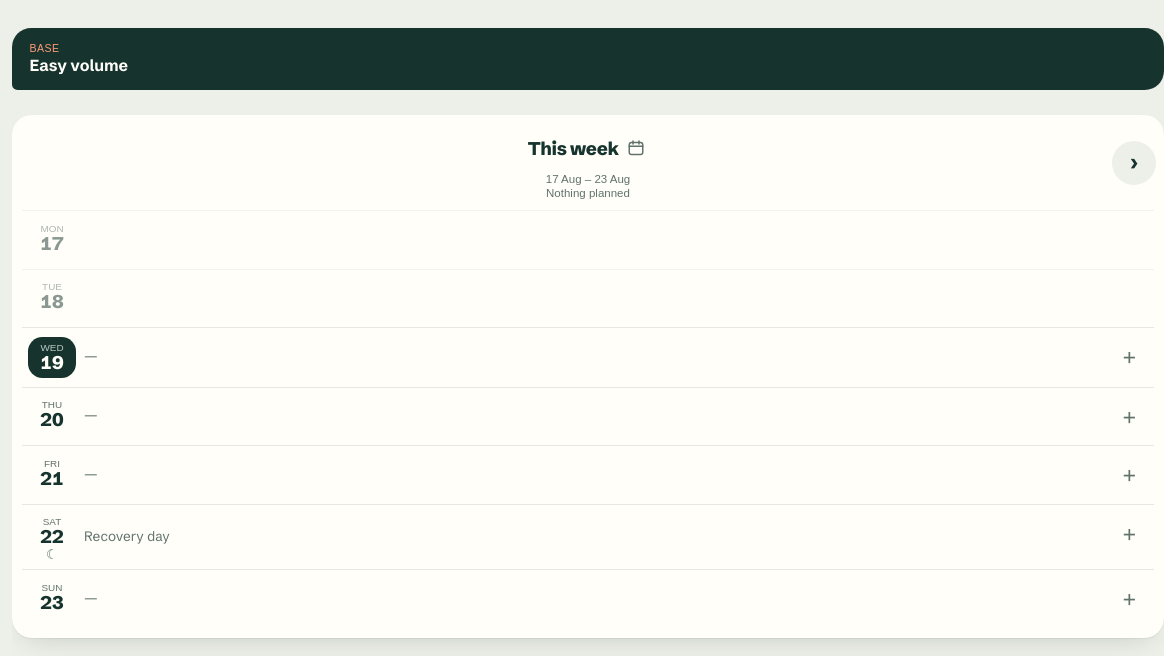
Test: PlanManager › shows the roadmap phase the week sits in
Expected: the text "Base" is shown, [30,42,59,54]
Click the button named "Next week" at x=1134, y=163, box [1112,141,1156,185]
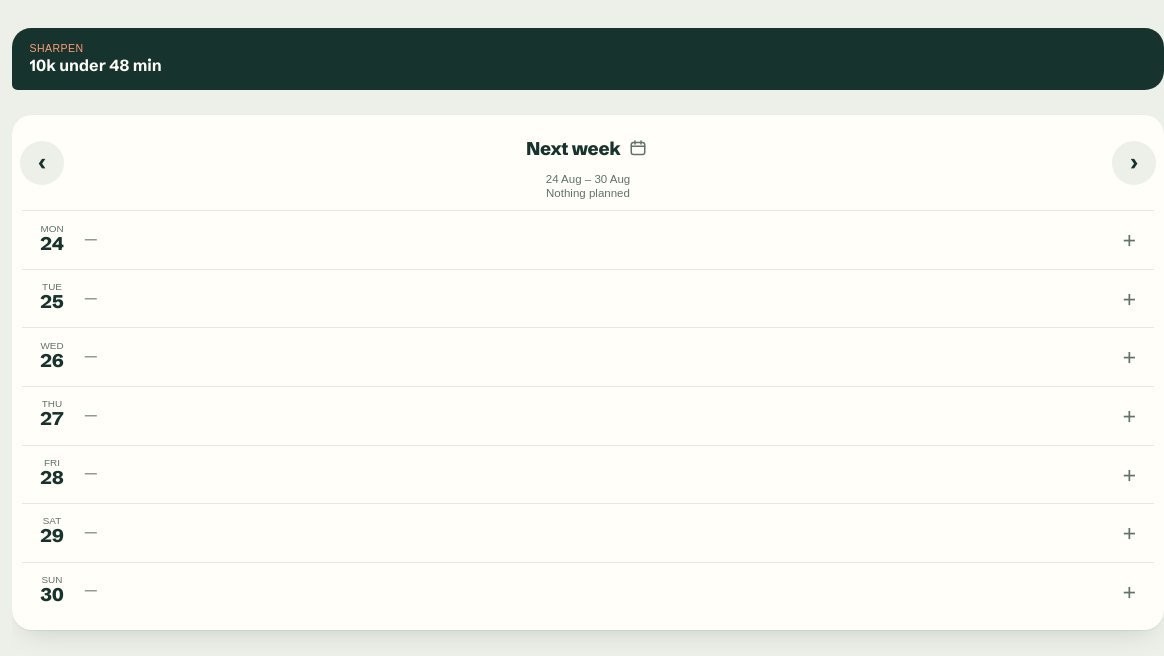
Now the text "Sharpen" is shown, box [30,42,84,54]
Now the link "Base" is gone
